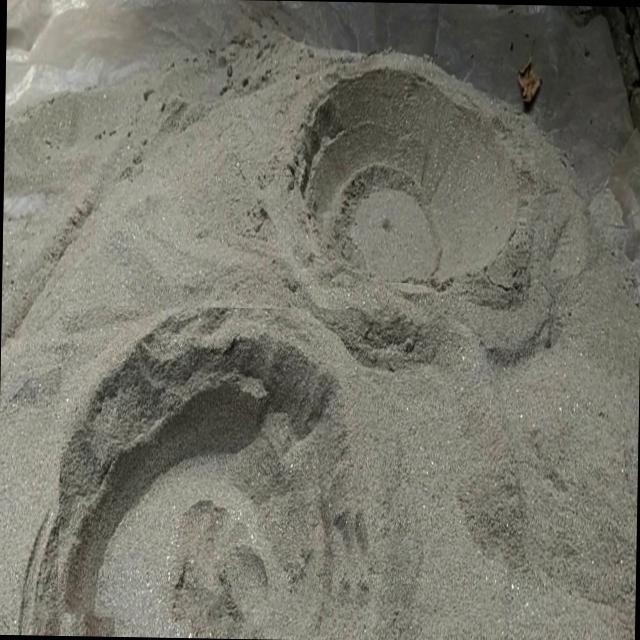C20: (56, 306, 357, 635), (293, 67, 524, 282)
